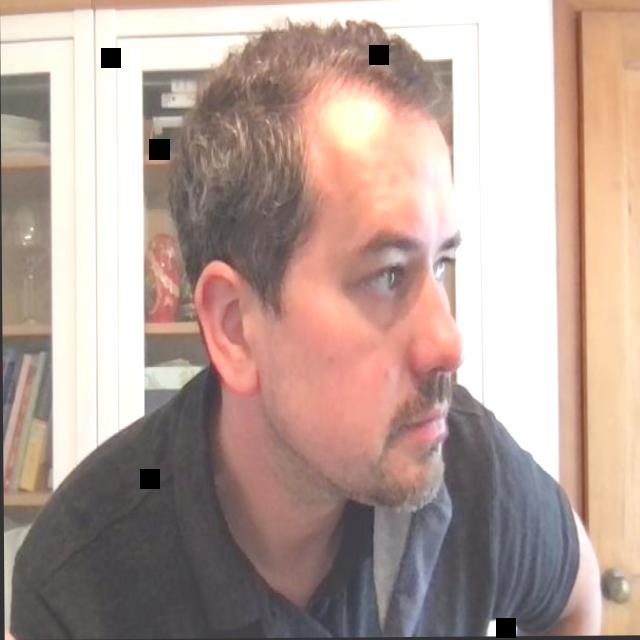NO-Mask: (170, 21, 467, 512)
